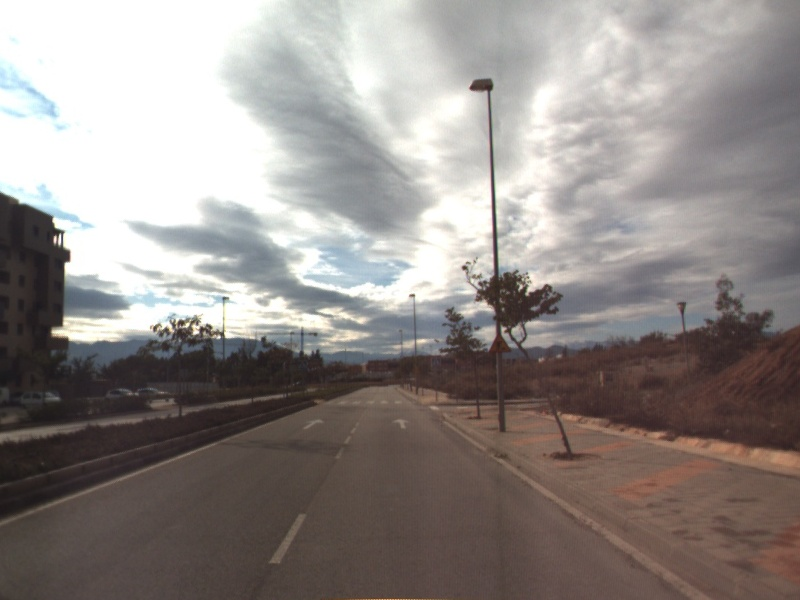STRAIGHT: (301, 416, 327, 431), (390, 416, 412, 431)
